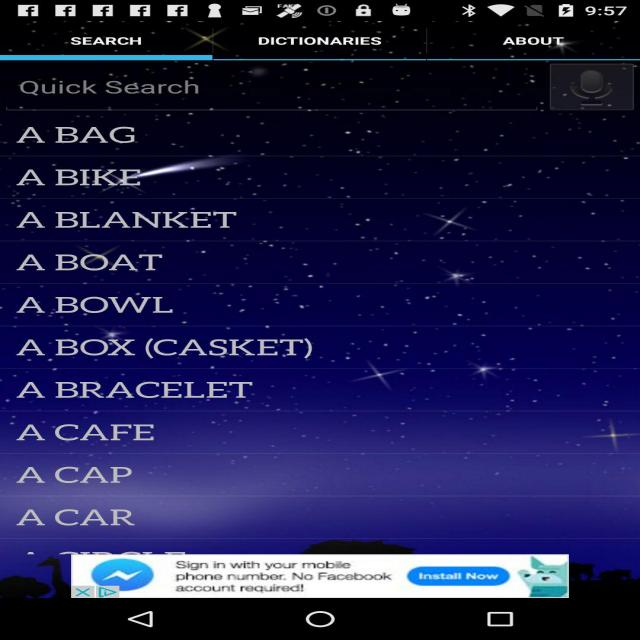button: (238, 25, 397, 57), (470, 25, 610, 57), (28, 22, 172, 53), (93, 606, 193, 632), (472, 602, 536, 638), (287, 609, 367, 631)
icon: (0, 0, 625, 23)
image: (72, 554, 570, 598)
text: (0, 61, 638, 538)
